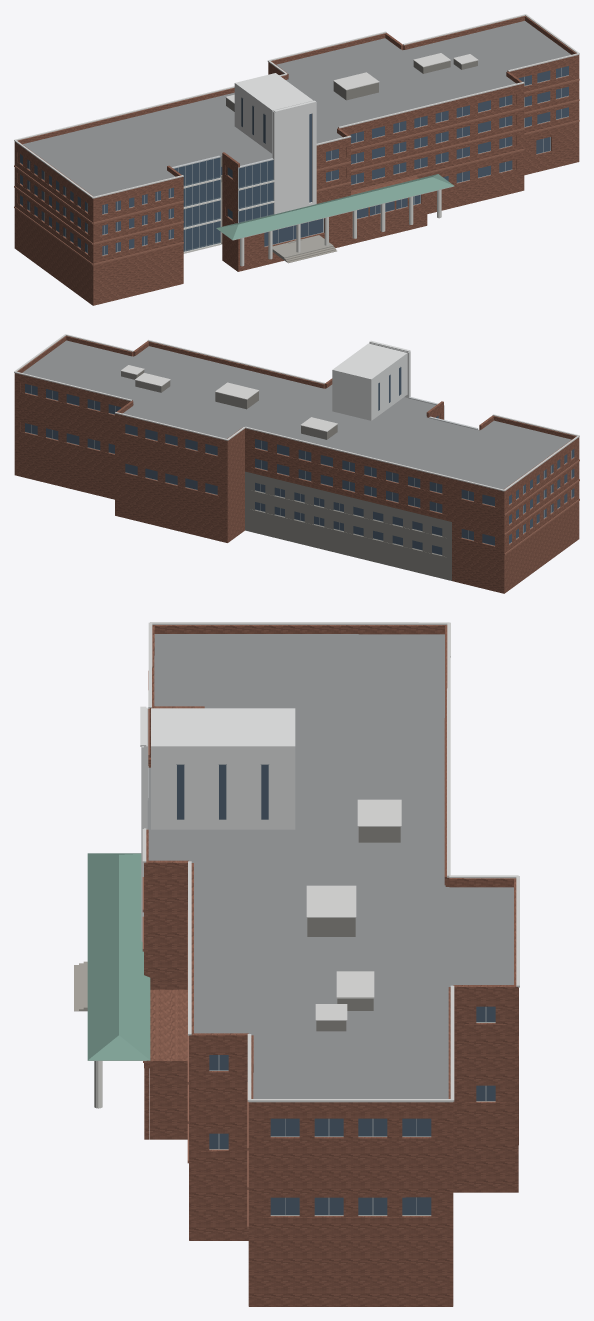
The picture shows the model from 3 angles, top to bottom: view 1: azimuth 30°, elevation 25°; view 2: azimuth 150°, elevation 25°; view 3: azimuth 270°, elevation 25°; orthographic projection. The views are drawn at different scales.
Parts seen in each view (by area): view 1: s14__brick-wall, s14__roof, s14__glass, s14__white-tower-wall, s14__curtain-glass, s14__eave-green, s14__brick-coping, s14__brick-band, s14__frame, s14__white-column, s14__back-concrete-wall, s14__door-glass (+4 smaller); view 2: s14__brick-wall, s14__roof, s14__back-concrete-wall, s14__glass, s14__white-tower-wall, s14__brick-coping, s14__frame, s14__brick-band; view 3: s14__roof, s14__brick-wall, s14__white-tower-wall, s14__eave-green, s14__brick-coping, s14__glass, s14__back-concrete-wall, s14__frame, s14__brick-band.
Boxes of the visible parts, x1,y1,x2,y2 form: s14__brick-wall: (14,16,579,305); s14__roof: (23,21,571,196); s14__glass: (20,66,568,255); s14__white-tower-wall: (234,73,316,214); s14__curtain-glass: (174,157,273,250); s14__eave-green: (216,174,454,239); s14__brick-coping: (14,14,579,198); s14__brick-band: (14,78,579,265); s14__frame: (20,68,568,255); s14__white-column: (240,189,441,266); s14__back-concrete-wall: (221,59,477,182); s14__door-glass: (264,137,550,246); s14__brick-wall: (14,335,579,593); s14__roof: (22,340,571,489); s14__back-concrete-wall: (121,370,451,580); s14__glass: (25,367,574,554); s14__white-tower-wall: (332,340,410,420); s14__brick-coping: (14,334,579,491); s14__frame: (25,367,573,555); s14__brick-band: (504,459,579,555); s14__roof: (147,634,513,1098); s14__brick-wall: (144,625,518,1306); s14__white-tower-wall: (140,706,295,941); s14__eave-green: (87,853,150,1060); s14__brick-coping: (142,622,519,1102); s14__glass: (176,764,495,1214); s14__back-concrete-wall: (307,827,400,1031); s14__frame: (176,764,495,1215); s14__brick-band: (142,671,248,1229).
Size of the model in its own units: 93.81 by 26.55 by 36.95.
21 materials, 1 textured.
